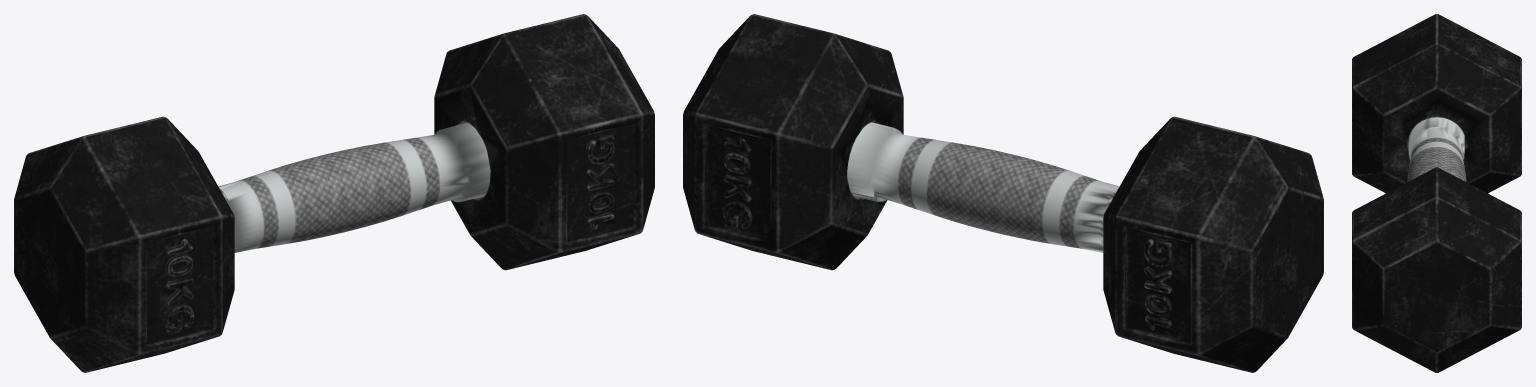
File: Dumbbell.glb
The picture shows the model from 3 angles, left to right: view 1: azimuth 30°, elevation 25°; view 2: azimuth 150°, elevation 25°; view 3: azimuth 270°, elevation 25°; orthographic projection. The views are drawn at different scales.
Visible parts, largest first — view 1: Dumbbell; view 2: Dumbbell; view 3: Dumbbell.
Boxes of the visible parts, x1,y1,x2,y2 form: Dumbbell: (14,14,654,372); Dumbbell: (683,14,1323,372); Dumbbell: (1352,14,1521,372).
Size of the model in its own units: 0.2772 by 0.1097 by 0.0957.
1 material, 1 textured.
